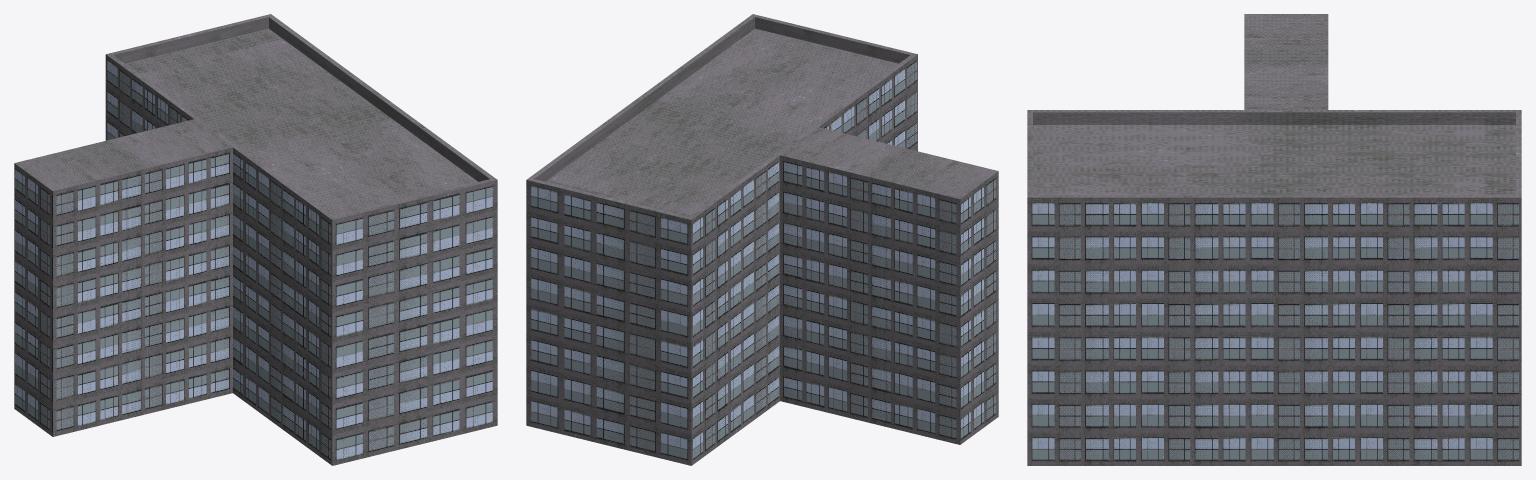
3 views of the same model, side by side, from view 1: azimuth 30°, elevation 25°; view 2: azimuth 150°, elevation 25°; view 3: azimuth 270°, elevation 25° (orthographic). The views are drawn at different scales.
Visible parts, largest first — view 1: pCube20; view 2: pCube20; view 3: pCube20.
Part boxes in pixels (left/top/right/bottom): pCube20: left=14, top=14, right=497, bottom=465; pCube20: left=526, top=14, right=998, bottom=465; pCube20: left=1027, top=14, right=1521, bottom=465.
Size of the model in its own units: 22.05 by 15 by 25.07.
Materials: 2 (2 with a texture image).
